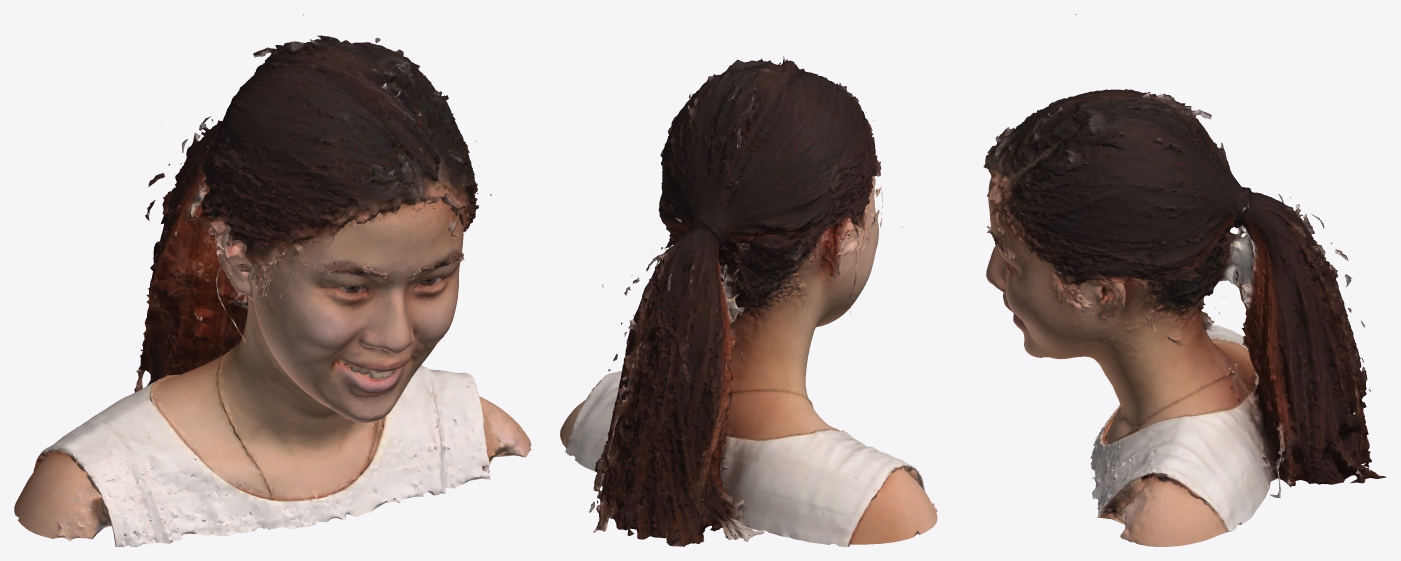
The model's file is 真人头像_女_低头马尾女孩01_opt.glb.
The picture shows the model from 3 angles, left to right: view 1: azimuth 30°, elevation 25°; view 2: azimuth 150°, elevation 25°; view 3: azimuth 270°, elevation 25°; orthographic projection. The views are drawn at different scales.
Visible parts, largest first — view 1: j_Material_u1_v1, j_Material_u1_v1_2, j_Material_u1_v1_1, j_Material_u1_v1_3; view 2: j_Material_u1_v1, j_Material_u1_v1_2, j_Material_u1_v1_1, j_Material_u1_v1_3; view 3: j_Material_u1_v1, j_Material_u1_v1_2, j_Material_u1_v1_1, j_Material_u1_v1_3.
Boxes of the visible parts, bbox=[...] form: j_Material_u1_v1: bbox=[44, 35, 531, 536]; j_Material_u1_v1_2: bbox=[14, 112, 478, 546]; j_Material_u1_v1_1: bbox=[56, 14, 531, 536]; j_Material_u1_v1_3: bbox=[15, 48, 491, 546]; j_Material_u1_v1: bbox=[560, 56, 913, 546]; j_Material_u1_v1_2: bbox=[617, 125, 937, 546]; j_Material_u1_v1_1: bbox=[562, 14, 877, 546]; j_Material_u1_v1_3: bbox=[613, 91, 937, 543]; j_Material_u1_v1: bbox=[981, 89, 1386, 546]; j_Material_u1_v1_2: bbox=[987, 161, 1363, 396]; j_Material_u1_v1_1: bbox=[984, 14, 1377, 544]; j_Material_u1_v1_3: bbox=[987, 151, 1364, 394].
Bounding box in the file's own units: 0.2807 × 0.3 × 0.2678.
1 material, 1 textured.
